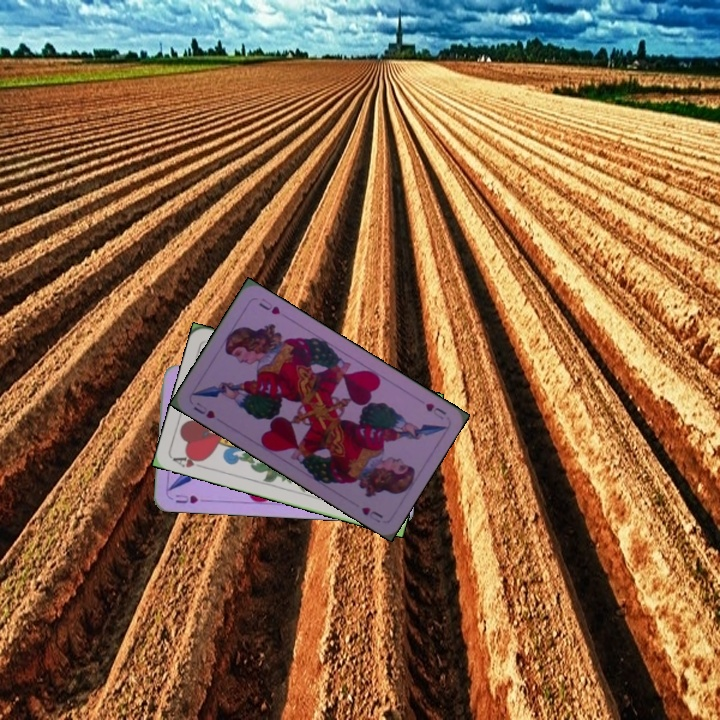HA: (169, 450, 209, 471)
HU: (189, 398, 218, 421), (422, 399, 449, 422), (172, 490, 201, 506)
